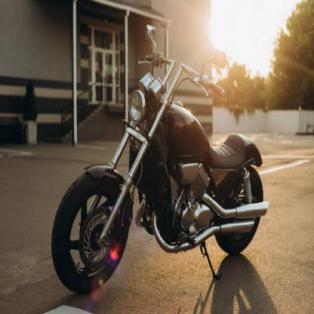Motocicleta: (46, 21, 277, 291)
